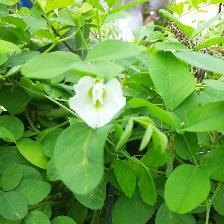shankupushpam: (66, 73, 129, 132)
